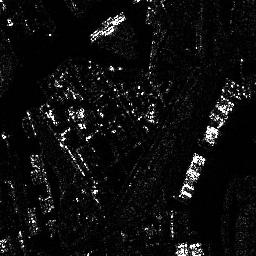ship: (88, 17, 112, 38)
